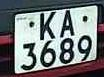3: (20, 40, 39, 73)
6: (38, 39, 58, 70)
8: (58, 36, 76, 66)
9: (75, 33, 93, 63)
A: (56, 6, 79, 38)
K: (37, 11, 58, 42)
